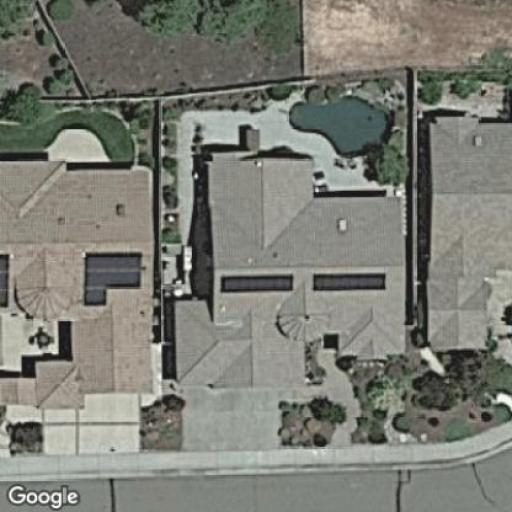solar-panel: (82, 249, 144, 307), (216, 270, 298, 296), (310, 272, 390, 294), (0, 251, 15, 305)
